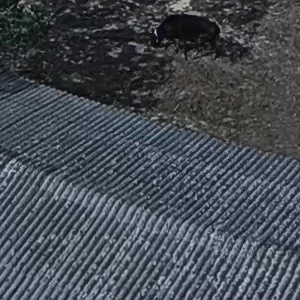cow: (135, 12, 243, 59)
